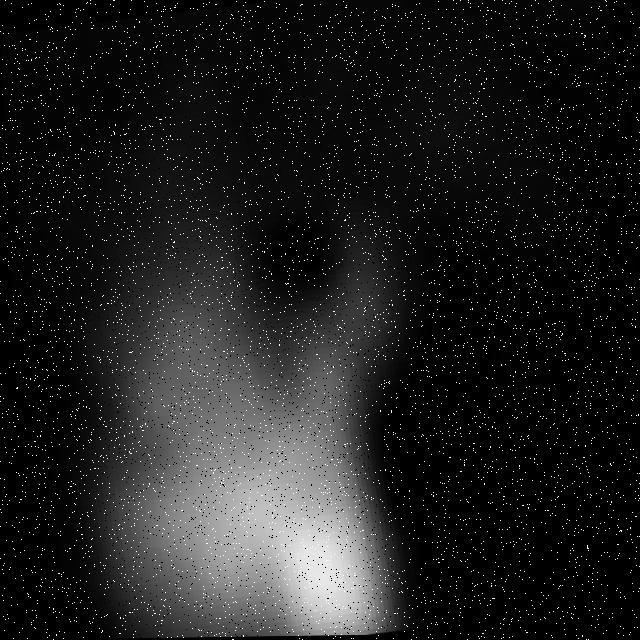person: (37, 98, 431, 640)
